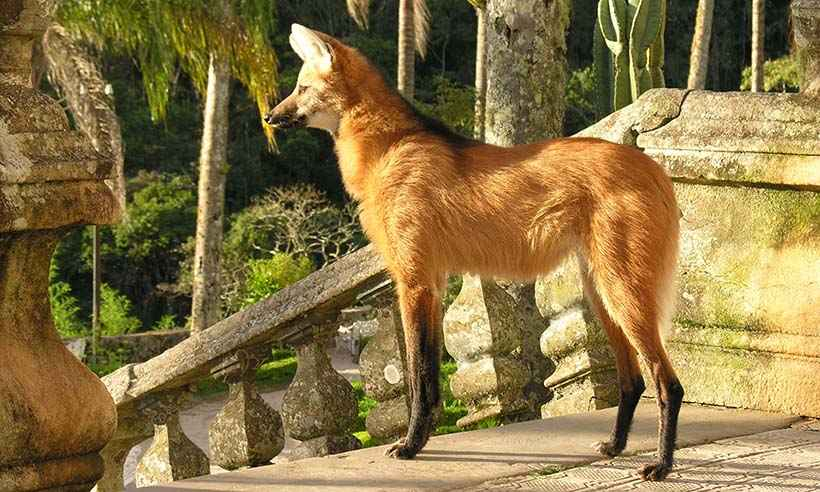LoboGuara: (257, 20, 704, 490)
